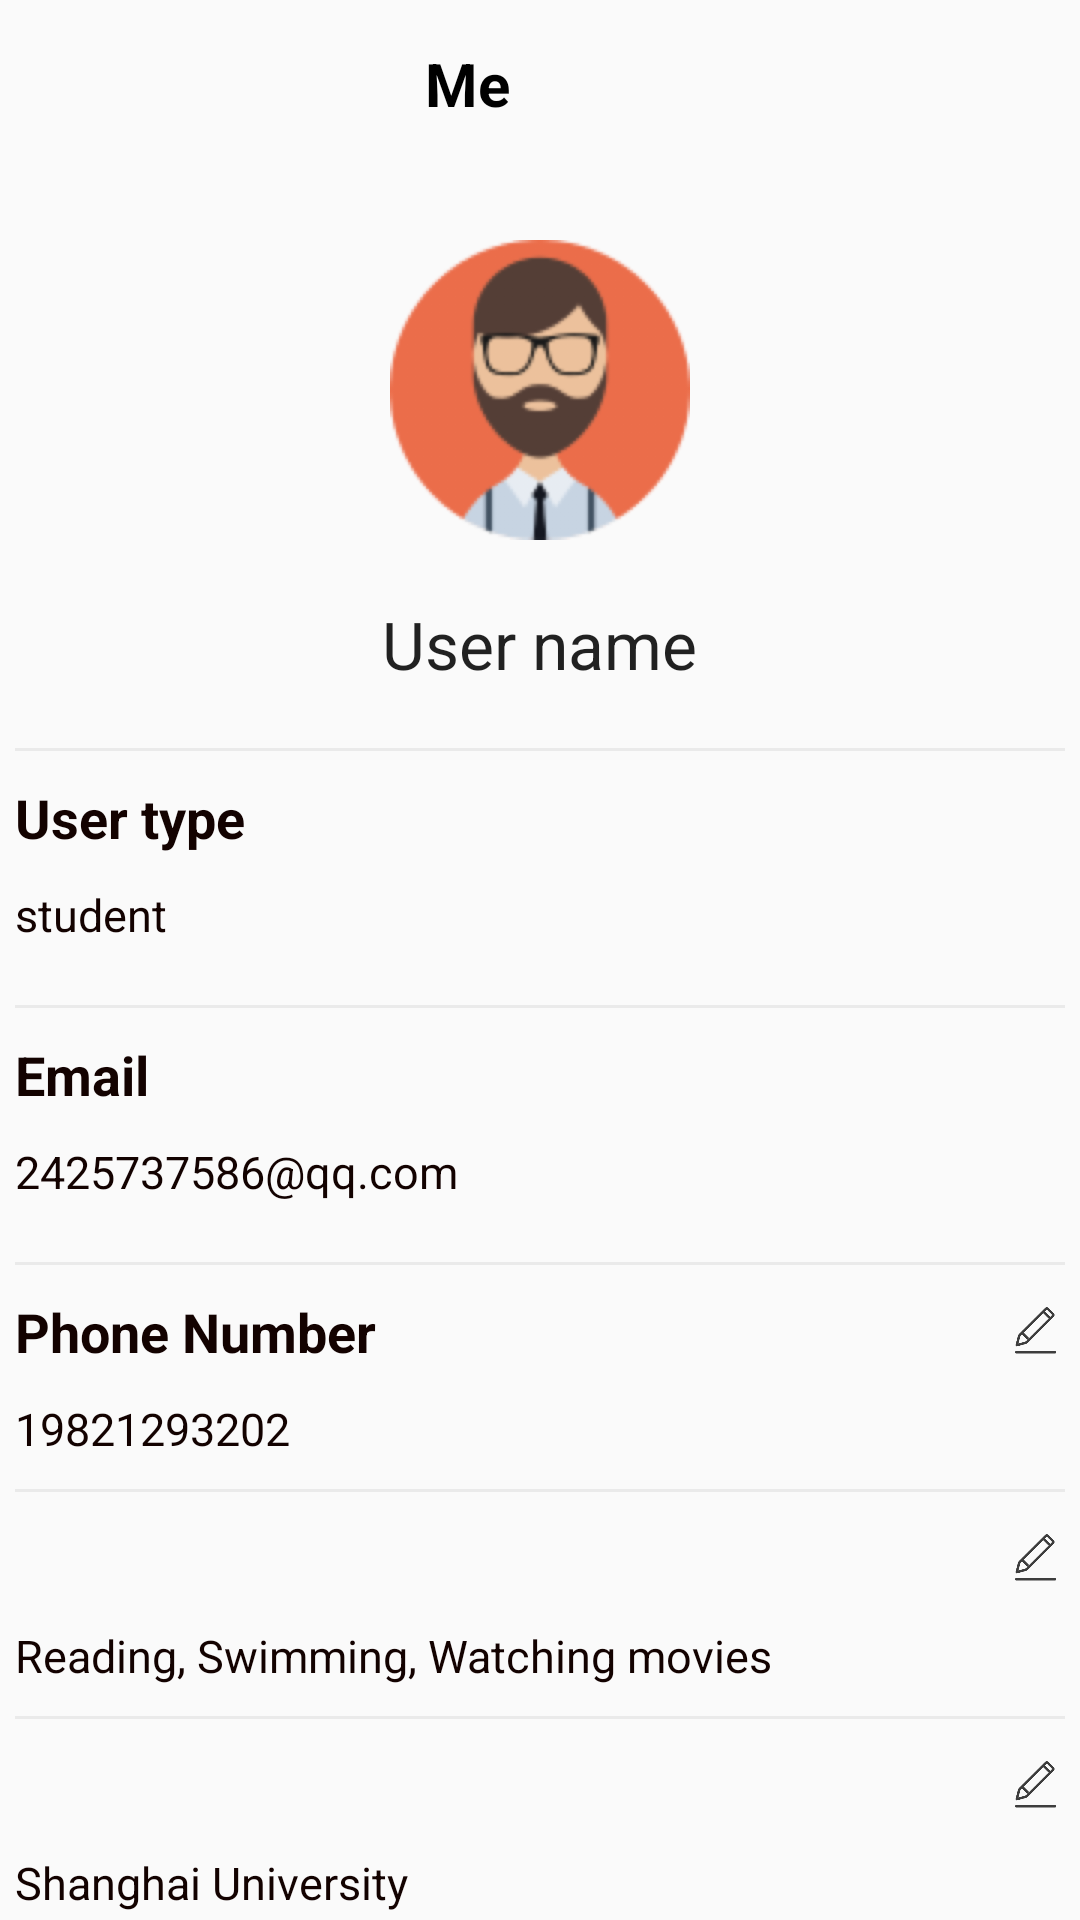

Point at icon controls on the screen. Image size 1080px x 1920px, points as (x=x, y=y).
Edit experience: (x=1035, y=1784)
Edit intro: (x=1035, y=1557)
